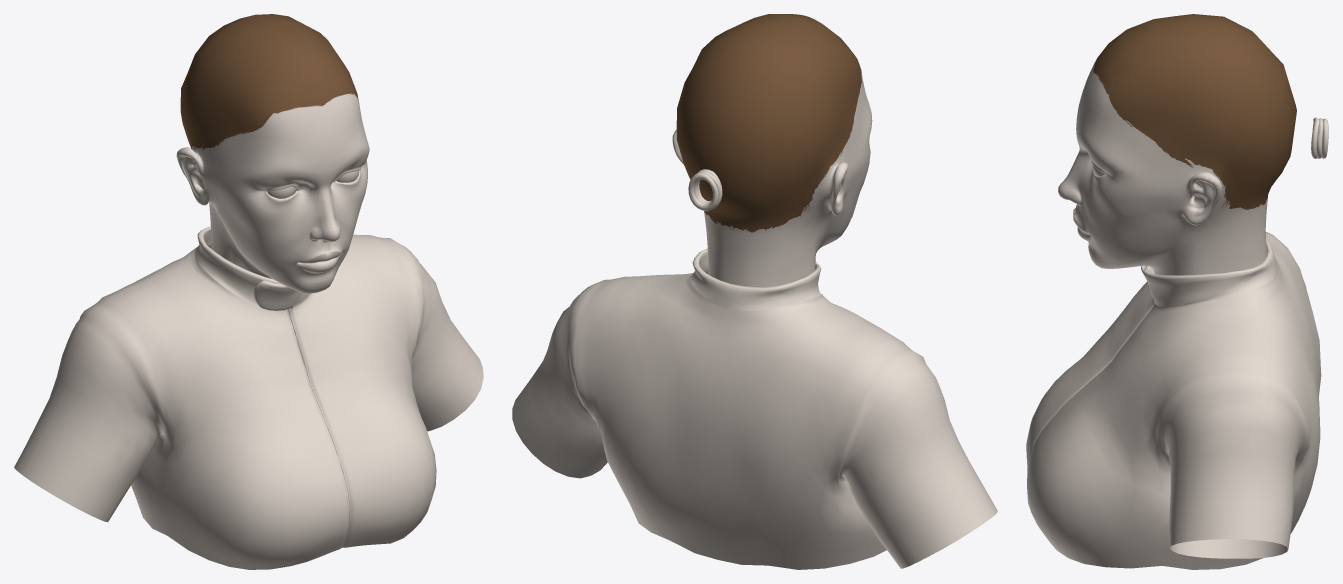
Rendered from ponytail.fbx.
3 renders of one model, left to right at view 1: azimuth 30°, elevation 25°; view 2: azimuth 150°, elevation 25°; view 3: azimuth 270°, elevation 25°, orthographic. The views are drawn at different scales.
Visible parts, largest first — view 1: jacket, head; view 2: jacket, head; view 3: jacket, head.
Boxes of the visible parts, x1,y1,x2,y2 form: jacket: [14, 226, 483, 569]; head: [176, 14, 369, 293]; jacket: [512, 248, 997, 569]; head: [672, 14, 872, 287]; jacket: [1026, 232, 1321, 569]; head: [1058, 14, 1296, 275].
Bounding box in the file's own units: 167 × 170 × 94.29.
